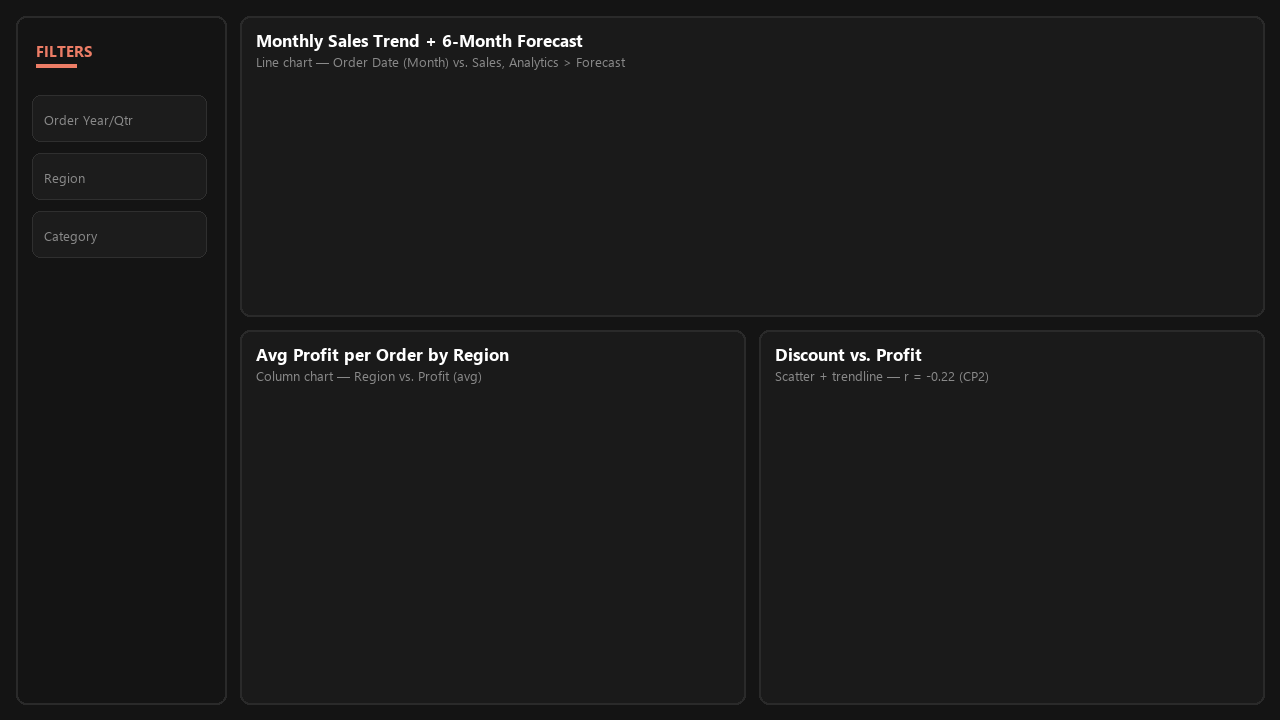

The page's visual inventory and layout, read from the dashboard file:
{"tool":"powerbi","page":{"name":"Trend & Comparison","canvas":[1280,720],"ordinal":1},"visuals":[{"type":"lineChart","fields":{"Category":["Orders.MonthStart"],"Y":["Sum(Orders.Sales)"]},"box":[16.7,91.7,1246.7,303.3],"z":0},{"type":"clusteredColumnChart","fields":{"Category":["Orders.Region"],"Y":["Avg(Orders.Profit)"]},"box":[16.7,408.3,623.3,290],"z":1000},{"type":"scatterChart","fields":{"Series":["Orders.Order ID"],"X":["Avg(Orders.Discount)"],"Y":["Avg(Orders.Profit)"]},"box":[653.3,408.3,610,290],"z":2000},{"type":"shape","box":[21.7,11.7,1236.7,63.3],"z":3000},{"type":"textbox","box":[34.5,18.2,650.9,68.2],"z":3001},{"type":"slicer","fields":{"Values":["Orders.Order Date.Variation.Date Hierarchy.Year"]},"box":[962.5,27.5,91.8,47.3],"z":3002},{"type":"slicer","fields":{"Values":["Orders.Region"]},"box":[1053.8,28.8,91.8,47.3],"z":3003},{"type":"slicer","fields":{"Values":["Orders.Category"]},"box":[1146.2,27.5,91.8,47.3],"z":3004}]}

Visuals, with their boxes in screenshot pixels (x1, y1, x2, y2), scaled from the page's 1280x720 canvas onto the 1280x720 screenshot:
lineChart - Orders.MonthStart x Sum(Orders.Sales): 17/92/1263/395
clusteredColumnChart - Orders.Region x Avg(Orders.Profit): 17/408/640/698
scatterChart - Orders.Order ID x Avg(Orders.Discount): 653/408/1263/698
shape: 22/12/1258/75
textbox: 34/18/685/86
slicer - Orders.Order Date.Variation.Date Hierarchy.Year: 962/28/1054/75
slicer - Orders.Region: 1054/29/1146/76
slicer - Orders.Category: 1146/28/1238/75
